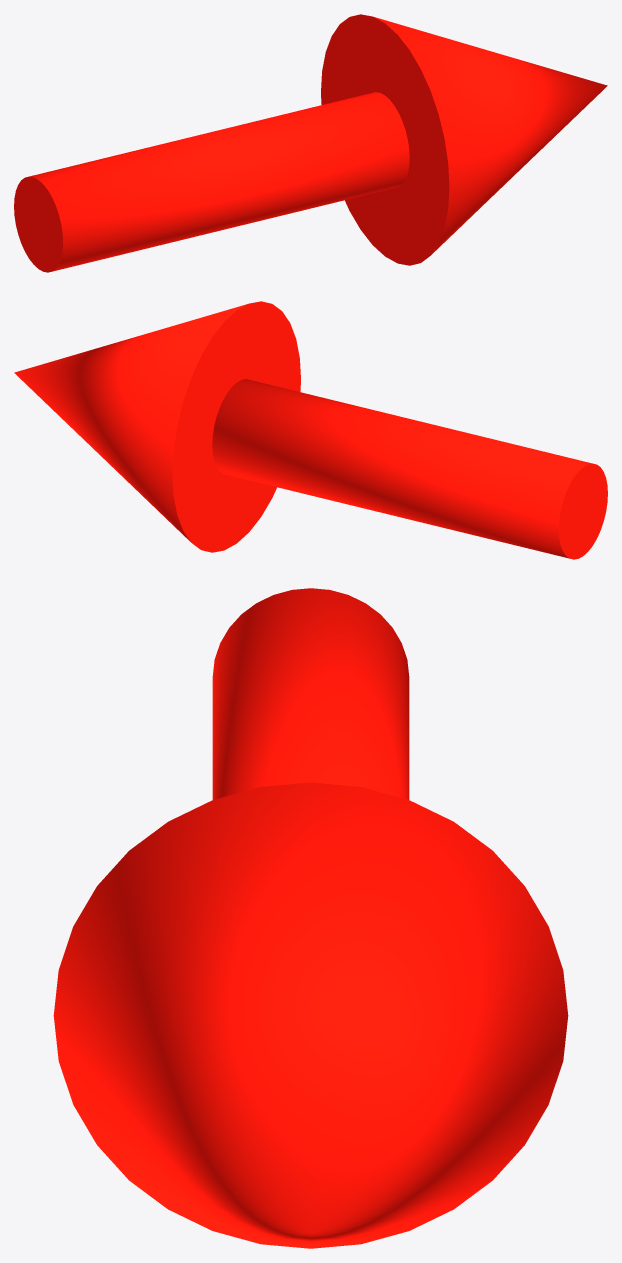
File: arrow_short.fbx
The picture shows the model from 3 angles, top to bottom: view 1: azimuth 30°, elevation 25°; view 2: azimuth 150°, elevation 25°; view 3: azimuth 270°, elevation 25°; orthographic projection. The views are drawn at different scales.
Visible parts, largest first — view 1: Cone; view 2: Cone; view 3: Cone.
Boxes of the visible parts, x1,y1,x2,y2 form: Cone: [14, 14, 607, 272]; Cone: [14, 301, 607, 559]; Cone: [53, 588, 568, 1248].
Bounding box in the file's own units: 511 × 200 × 200.
